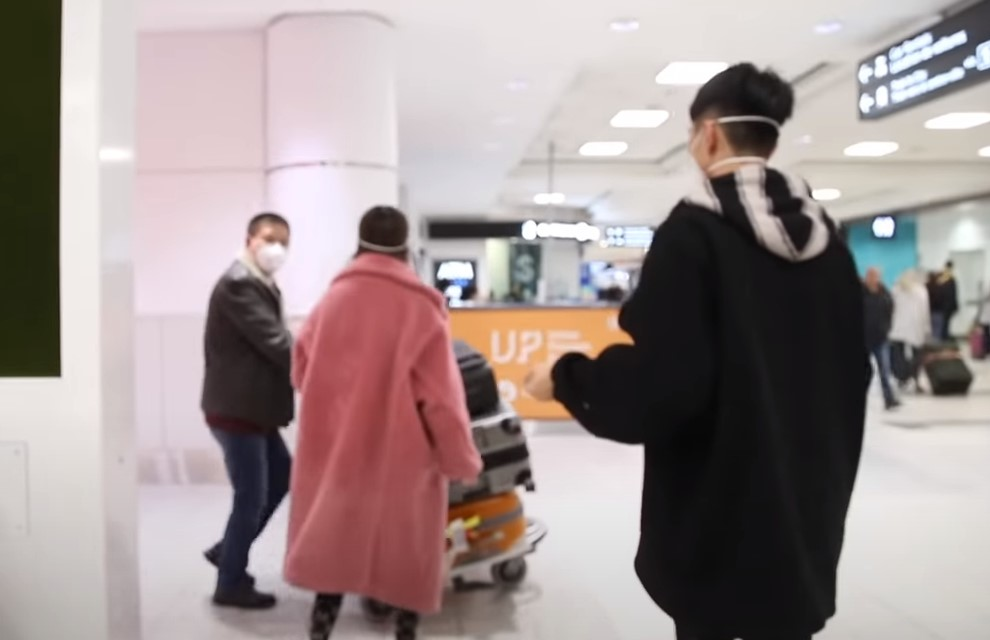face_with_mask: (242, 208, 296, 279)
